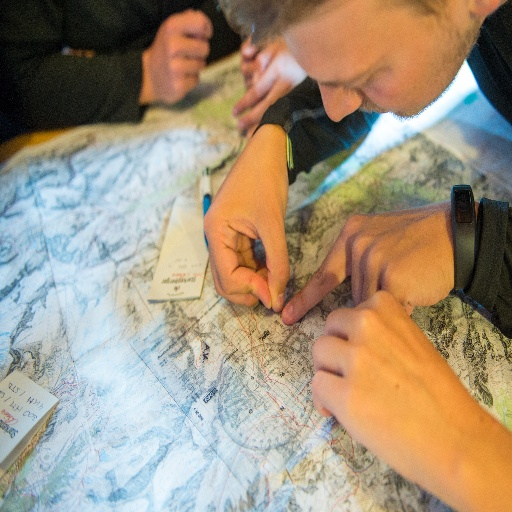hand: (313, 284, 510, 512), (281, 198, 455, 322), (202, 119, 290, 313), (231, 36, 308, 139), (148, 7, 213, 105), (238, 34, 261, 90)
